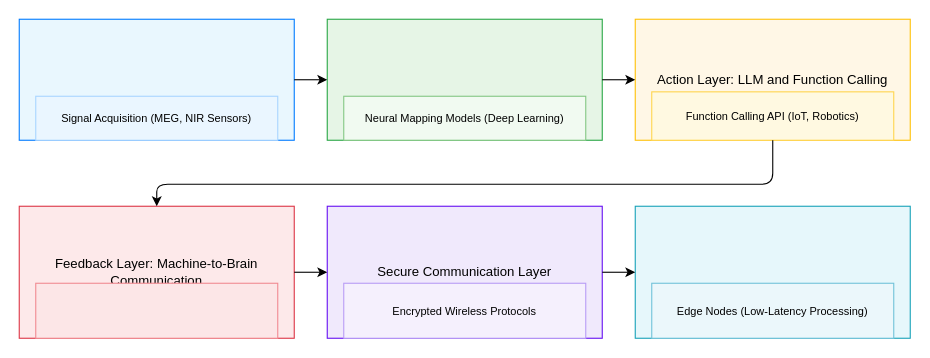
Some shapes in this 930 by 358 pixel diagram are drawn without their labels. The shapes that lost their labels are listed below. From the top down, each one's box as (x1, y1, x2, y2) in pixels, then its label:
(18, 18, 294, 140): Input Layer: Brain-Computer Interface (BCI)
(326, 18, 602, 140): Processing Layer: Neural Mapping and Signal Interpretation
(634, 205, 910, 338): Cloud and Edge Systems
(35, 282, 278, 338): Tactile Devices (Haptics, Neurofeedback)
